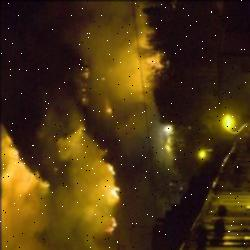fire: (1, 60, 123, 249)
